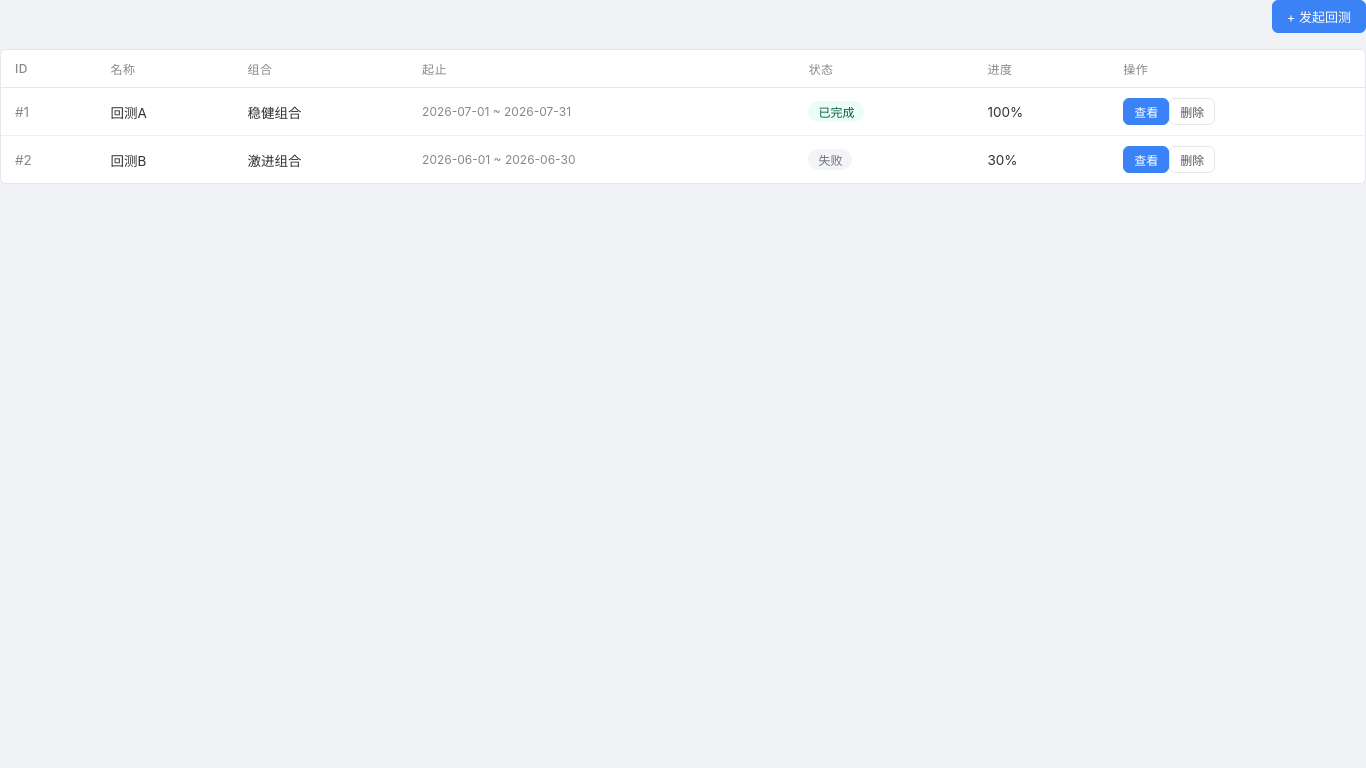
Test: Backtest.vue — 发起回测 › 点[+发起回测]弹 Modal，含组合下拉/名称/起止日期
Click the button "+ 发起回测": (1319,16) [1272, 0, 1365, 33]
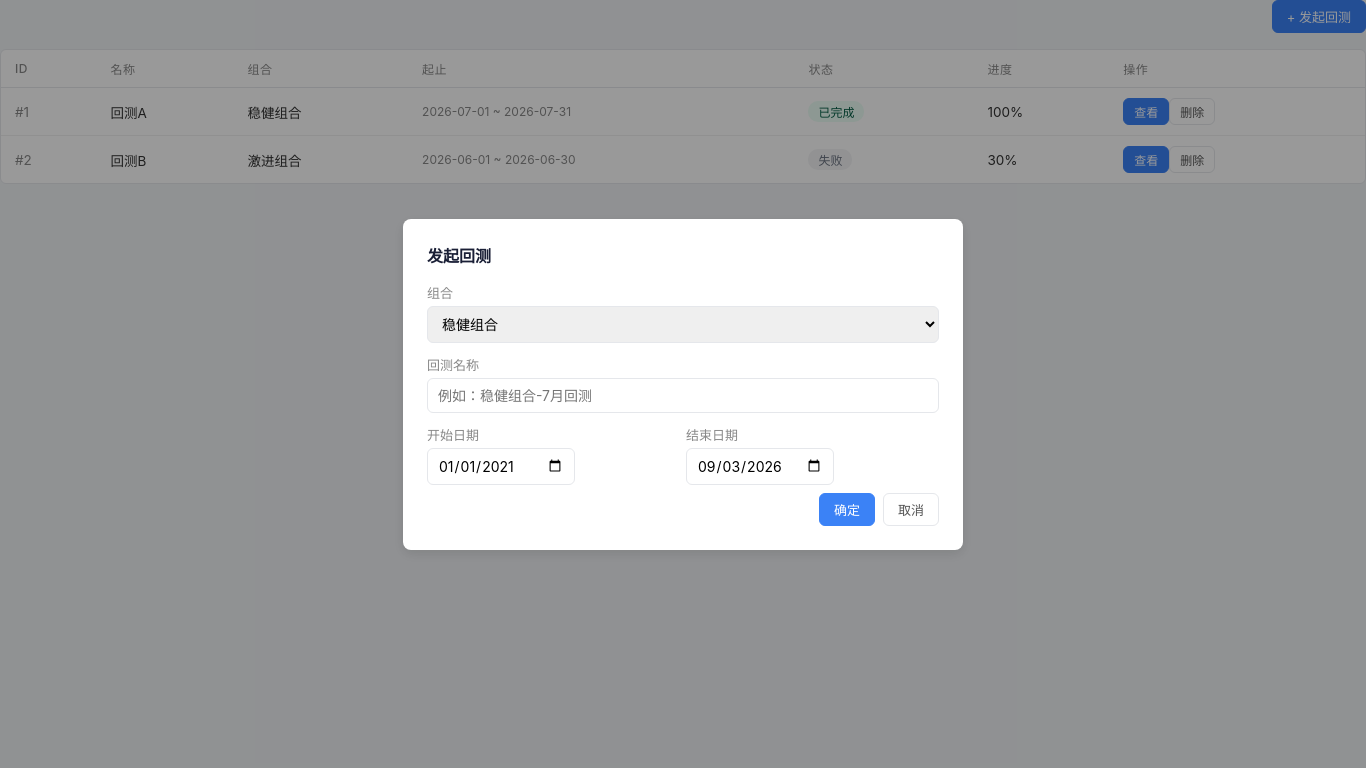
Result: the element with class "modal-overlay" is shown
Result: the dropdown is shown at [427, 306, 939, 342]
Result: the date field below "开始日期" holds "2021-01-01" at [427, 448, 575, 484]
